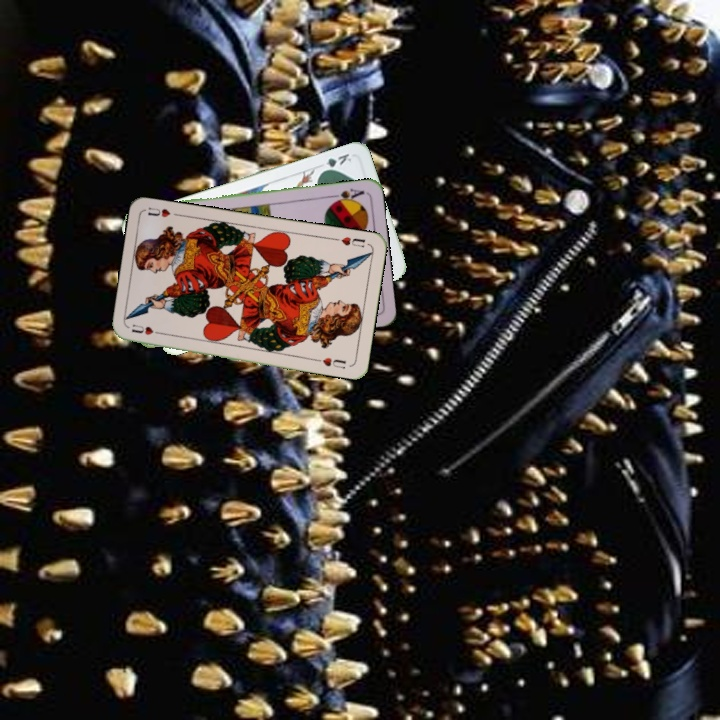GK: (317, 149, 354, 175)
HU: (128, 321, 166, 338), (330, 233, 367, 250)
SA: (326, 184, 367, 206)
